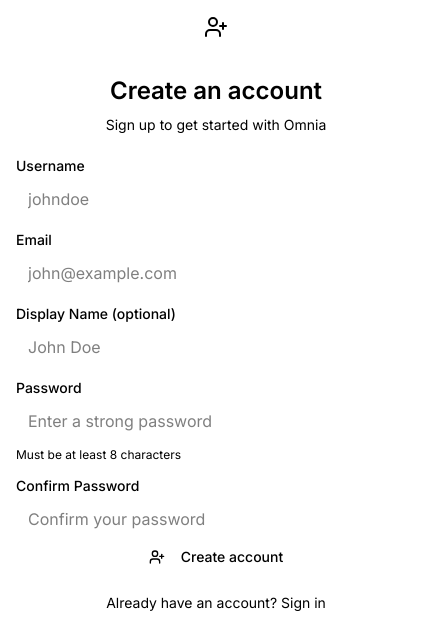
Test: SignupForm › shows a token-styled success state when verification is required
Type "jo" into the field labelled "Username".
click(216, 199); type("jo")  # box [16,181,416,217]
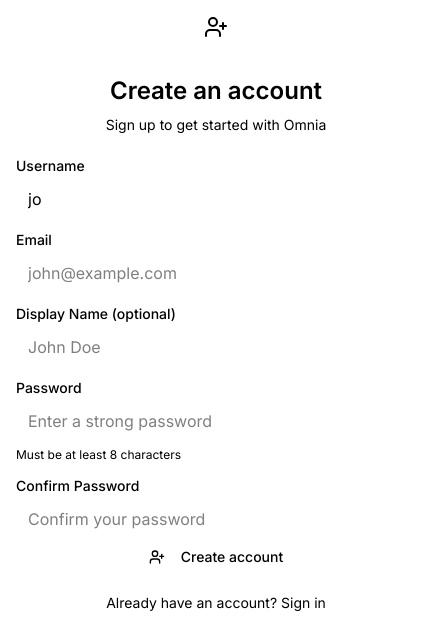
Type "j@example.com" into the field labelled "Email".
click(216, 273); type("j@example.com")  # box [16,255,416,291]
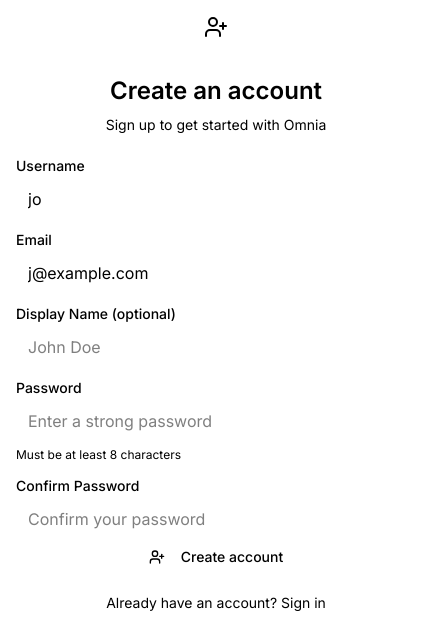
Type "password123" into the password field labelled "Password".
click(216, 421); type("password123")  # box [16,403,416,439]
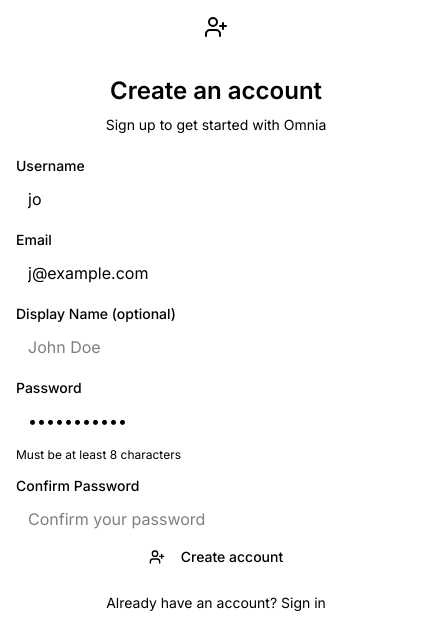
Type "password123" into the password field labelled "Confirm Password".
click(216, 519); type("password123")  # box [16,501,416,537]
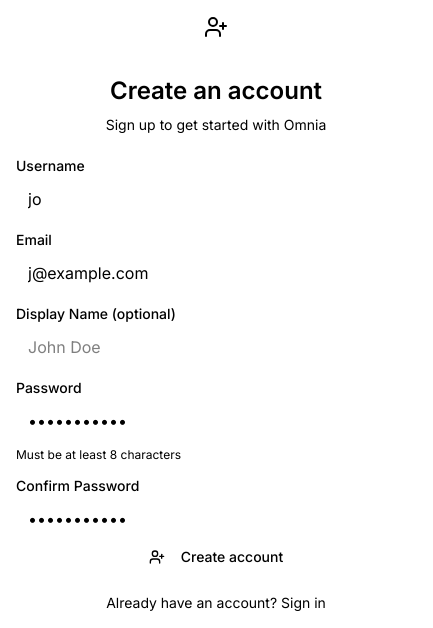
Click the button "Create account".
click(216, 557)  # box [16,537,416,577]
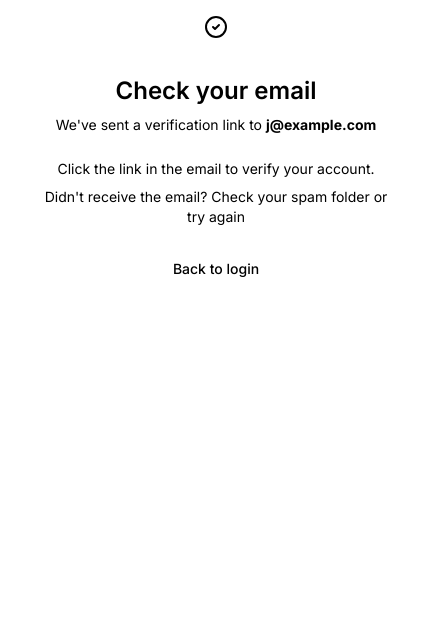
Check: the text "Check your email" is shown, box [116,76,316,105]
